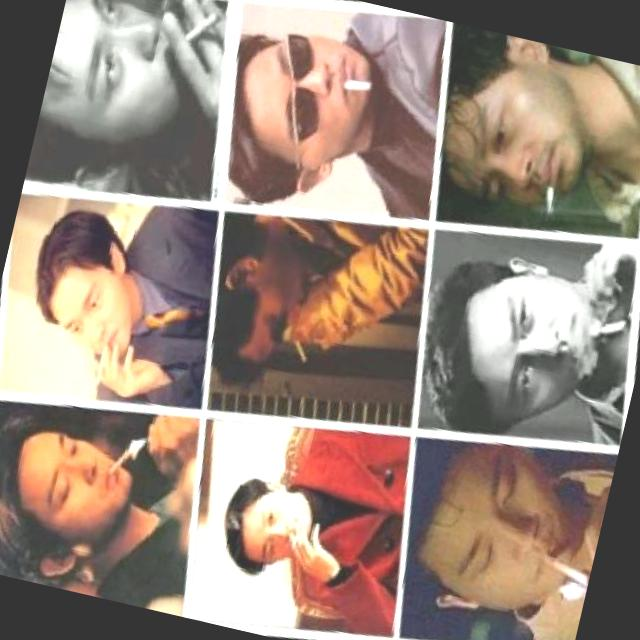smoke: (536, 541, 594, 594), (177, 2, 230, 58), (101, 433, 150, 487), (590, 305, 636, 350), (88, 344, 116, 392), (540, 180, 568, 222), (339, 72, 378, 100), (289, 333, 315, 366), (287, 530, 306, 558)
